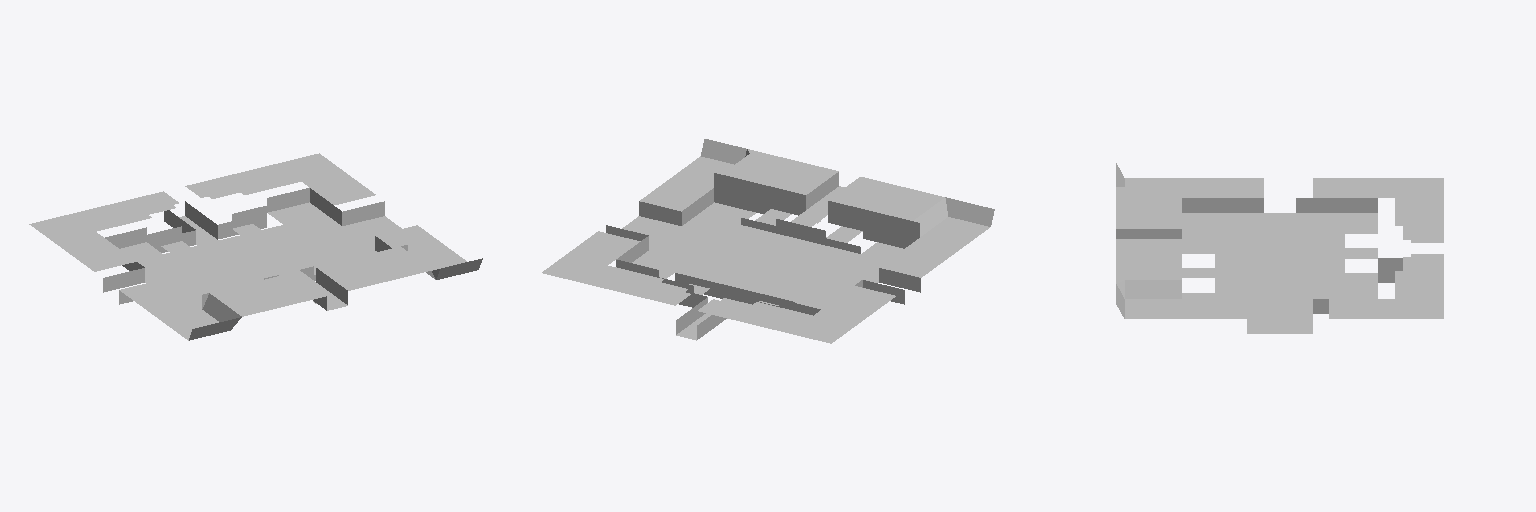
File: lvl_shipBigRoom2-Take2.obj
The picture shows the model from 3 angles: view 1: azimuth 30°, elevation 25°; view 2: azimuth 150°, elevation 25°; view 3: azimuth 270°, elevation 25°; orthographic projection.
Visible parts, largest first — view 1: Default; view 2: Default; view 3: Default.
Boxes of the visible parts, <box> form: Default: <box>29,153,482,340</box>; Default: <box>542,139,994,343</box>; Default: <box>1116,163,1443,333</box>.
Size of the model in its own units: 41 by 6 by 40.